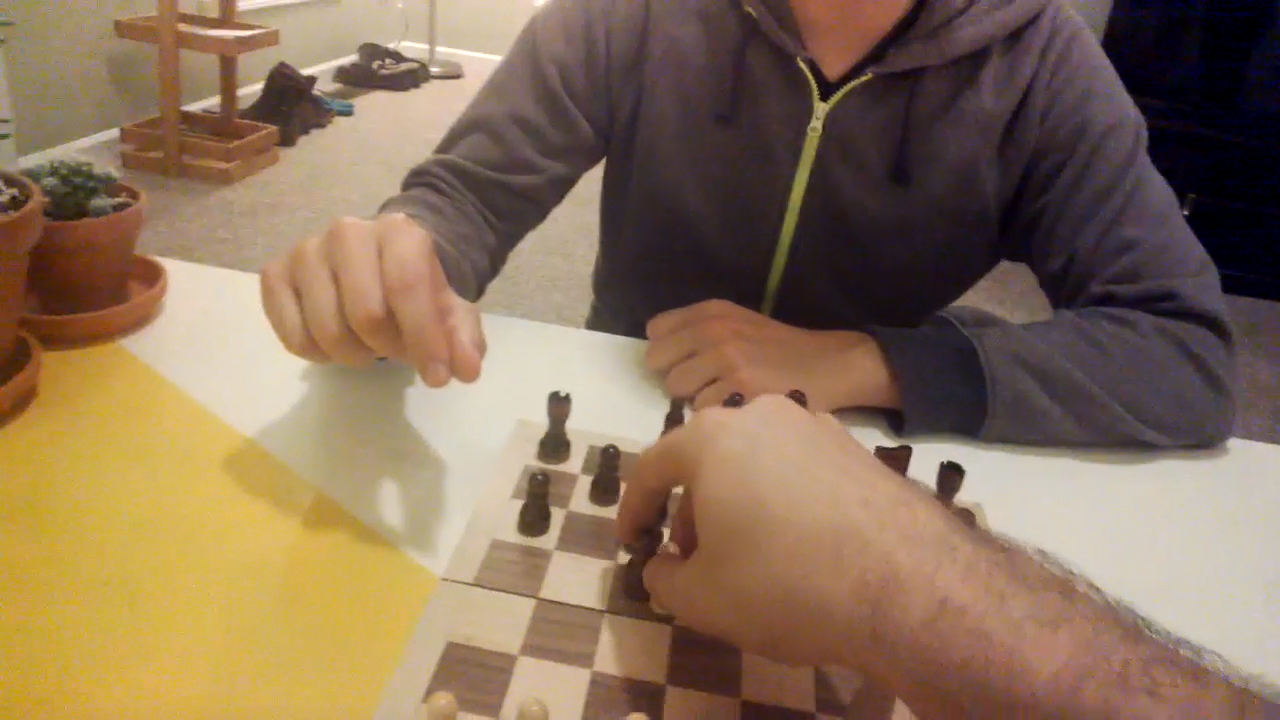hand: (615, 398, 962, 667), (262, 221, 485, 379), (652, 300, 893, 411)
